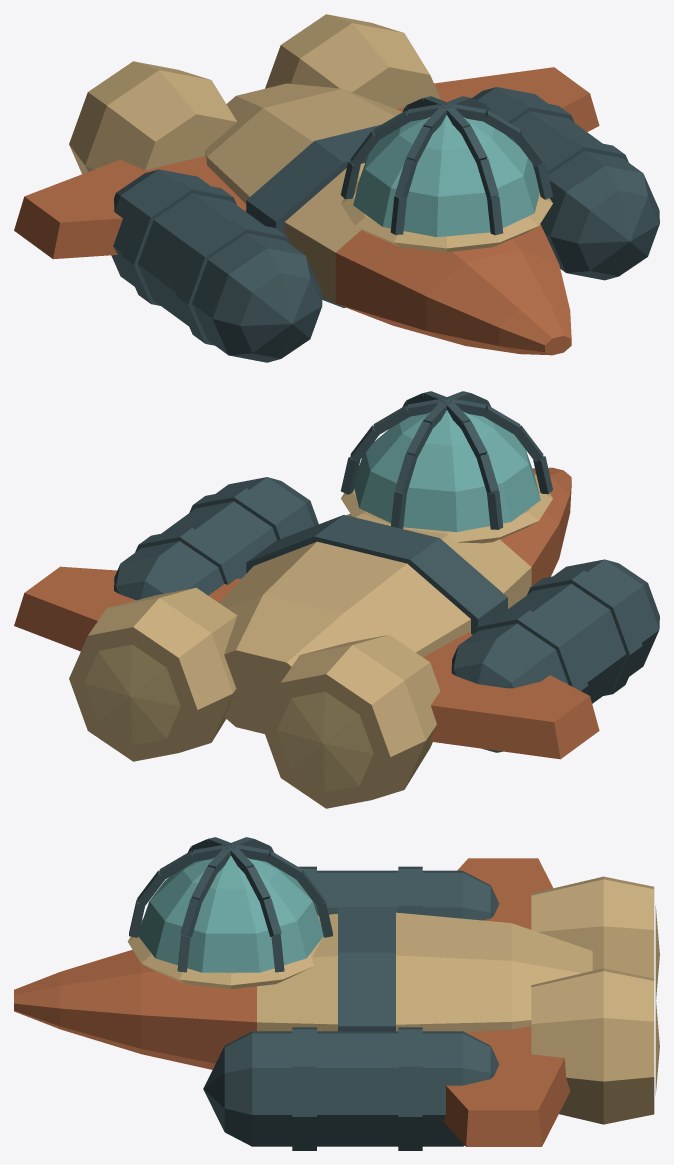
The model's file is ship_pods.gltf.
3 views of the same model, one above another, from view 1: azimuth 30°, elevation 25°; view 2: azimuth 150°, elevation 25°; view 3: azimuth 270°, elevation 25° (orthographic). The views are drawn at different scales.
Parts seen in each view (by area): view 1: ship, pods; view 2: ship, pods; view 3: ship, pods.
Boxes of the visible parts, x1,y1,x2,y2 form: ship: (14, 14, 599, 355); pods: (111, 87, 659, 362); ship: (14, 391, 599, 808); pods: (114, 477, 659, 752); ship: (14, 837, 659, 1146); pods: (203, 866, 499, 1150).
Size of the model in its own units: 3.4 by 1.41 by 3.57.
